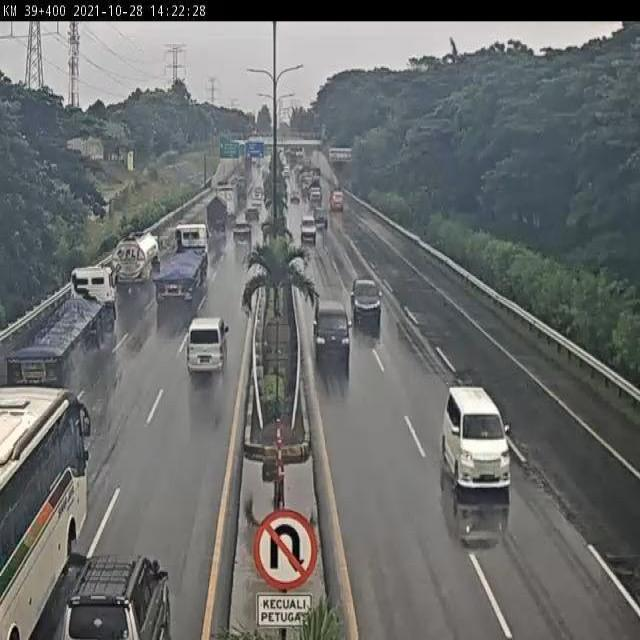big bus: (0, 385, 88, 640)
car: (443, 386, 512, 494), (185, 316, 228, 376), (313, 300, 351, 360), (351, 277, 384, 324), (232, 221, 253, 243), (299, 219, 317, 244)
truck-m-: (108, 228, 161, 292)
truck-xl-: (5, 267, 117, 388), (154, 222, 210, 302)
